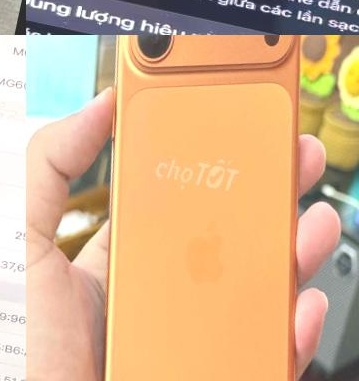scratch: (26, 35, 359, 381)
